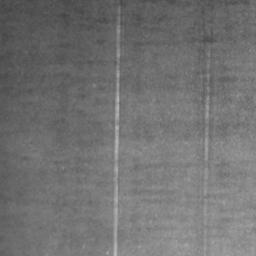Bright scratch: (113, 0, 122, 256)
